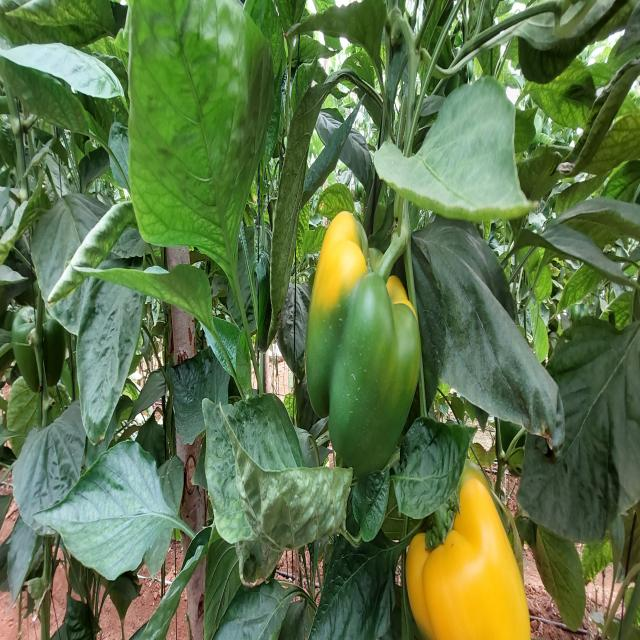GreenishYellow--Can-be-Harvested: (291, 185, 427, 471), (402, 437, 544, 640)
